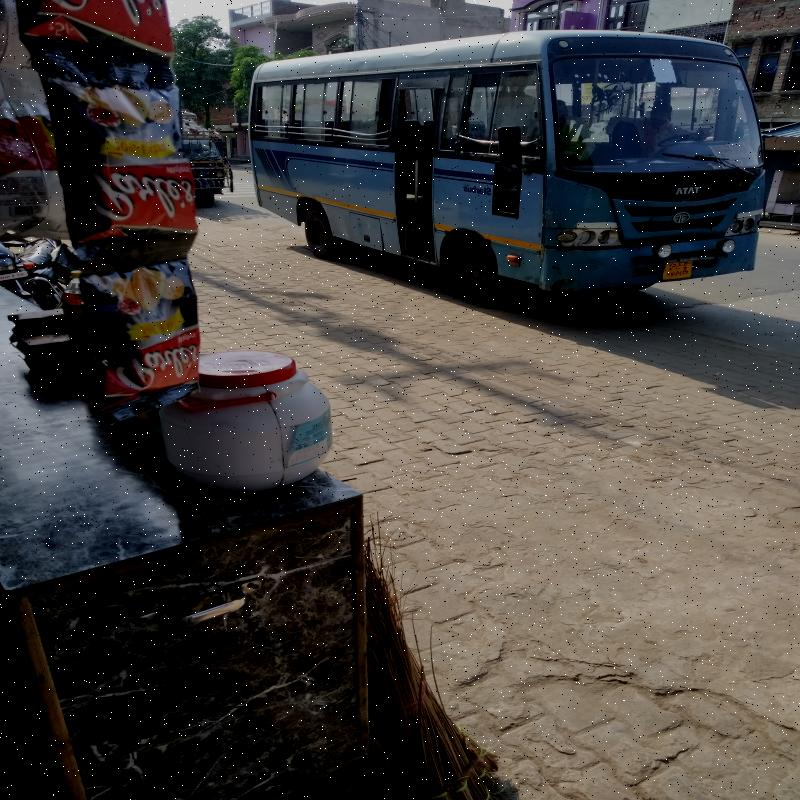bus: (244, 33, 764, 288)
